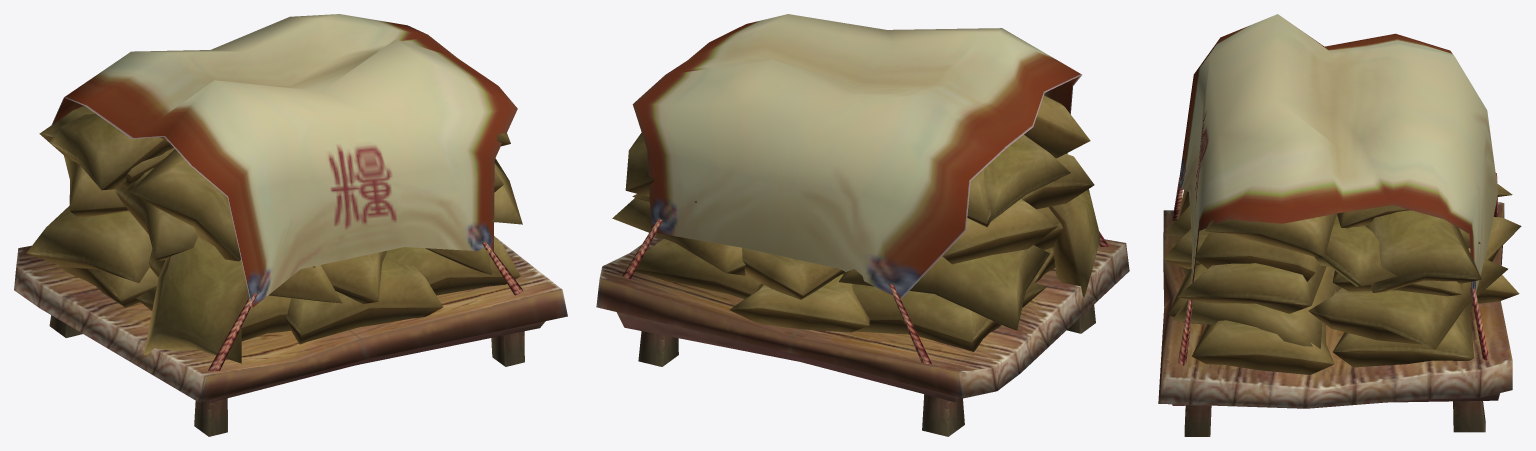
File: liang_dui_001.FBX
The picture shows the model from 3 angles, left to right: view 1: azimuth 30°, elevation 25°; view 2: azimuth 150°, elevation 25°; view 3: azimuth 270°, elevation 25°; orthographic projection. The views are drawn at different scales.
Parts seen in each view (by area): view 1: liang_dui_001; view 2: liang_dui_001; view 3: liang_dui_001.
Part boxes in pixels (x1,y1,x2,y2): liang_dui_001: (14, 14, 567, 436); liang_dui_001: (596, 14, 1129, 436); liang_dui_001: (1158, 14, 1521, 436).
Bounding box in the file's own units: 462 × 327 × 360.
